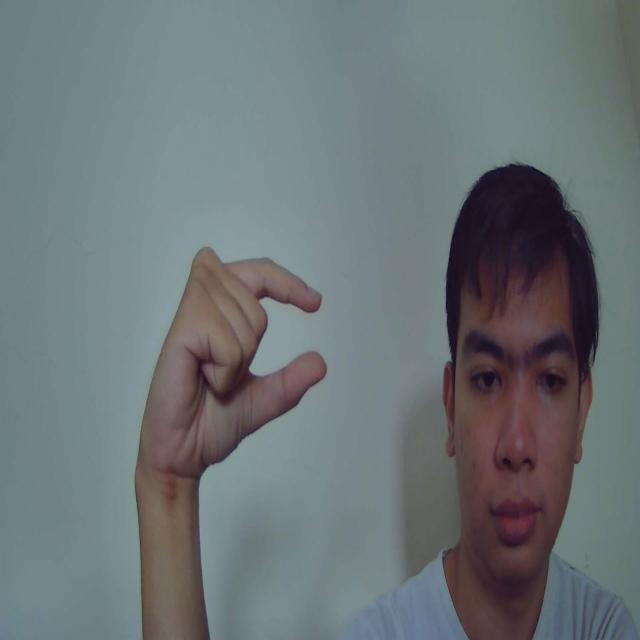G: (135, 243, 328, 476)
